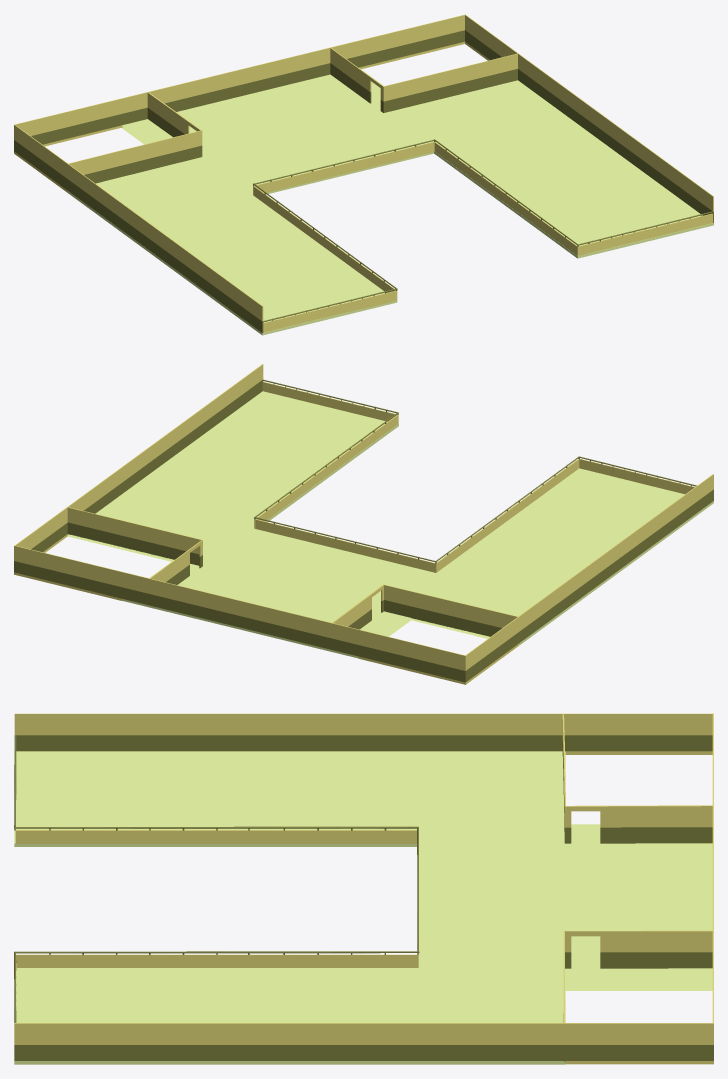
The model's file is 3rd_FloorSCHOOL.fbx.
3 views of the same model, one above another, from view 1: azimuth 30°, elevation 25°; view 2: azimuth 150°, elevation 25°; view 3: azimuth 270°, elevation 25° (orthographic). The views are drawn at different scales.
Parts seen in each view (by area): view 1: floor2, floor3, floor1, backWall2, leftWall1, rightWall3, stairsRight, stairsLeft, railing3, railing1, railing2; view 2: floor2, floor3, floor1, backWall2, leftWall1, rightWall3, stairsRight, stairsLeft, railing3, railing1, railing2; view 3: floor2, floor1, leftWall1, rightWall3, floor3, railing3, railing1, stairsLeft, stairsRight, backWall2.
Boxes of the visible parts, x1,y1,x2,y2 form: floor2: (66, 68, 568, 230); floor3: (434, 118, 713, 258); floor1: (119, 195, 397, 335); backWall2: (14, 14, 465, 146); leftWall1: (14, 125, 263, 332); rightWall3: (465, 15, 713, 222); stairsRight: (330, 48, 517, 112); stairsLeft: (67, 92, 202, 190); railing3: (434, 139, 712, 255); railing1: (253, 183, 397, 332); railing2: (253, 139, 435, 195); floor2: (67, 496, 570, 658); floor3: (120, 391, 398, 528); floor1: (437, 468, 713, 607); backWall2: (14, 545, 465, 684); leftWall1: (465, 474, 713, 684); rightWall3: (14, 364, 263, 574); stairsRight: (67, 507, 202, 584); stairsLeft: (332, 584, 519, 643); railing3: (254, 379, 398, 528); railing1: (435, 456, 696, 572); railing2: (254, 517, 436, 572); floor2: (418, 751, 712, 1064); floor1: (14, 751, 418, 846); leftWall1: (14, 713, 712, 754); rightWall3: (14, 1023, 713, 1064); floor3: (14, 968, 418, 1064); railing3: (14, 951, 419, 1022); railing1: (14, 735, 418, 843); stairsLeft: (562, 714, 712, 843); stairsRight: (563, 930, 712, 1061); backWall2: (712, 713, 713, 1064).
Bounding box in the file's own units: 20047 × 1231 × 19104.
